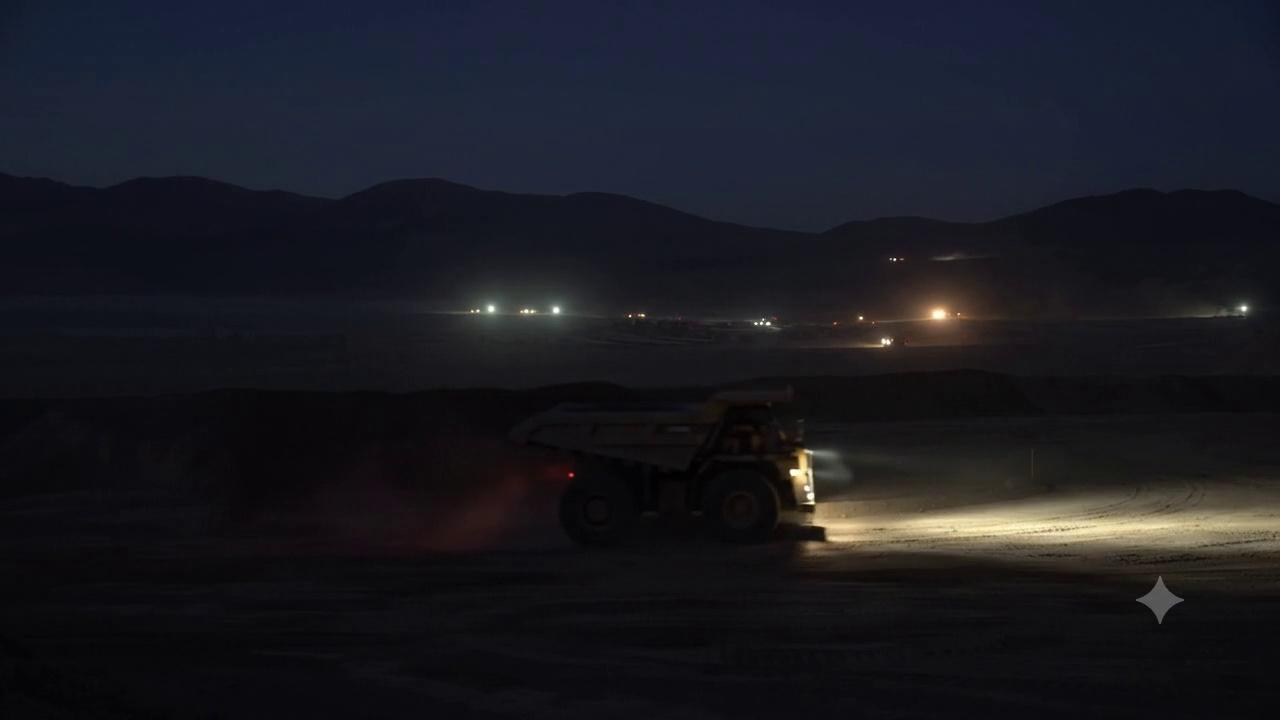CAEX: (509, 394, 854, 546)
